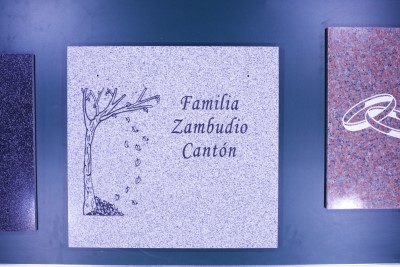lapidas: (66, 45, 279, 247)
